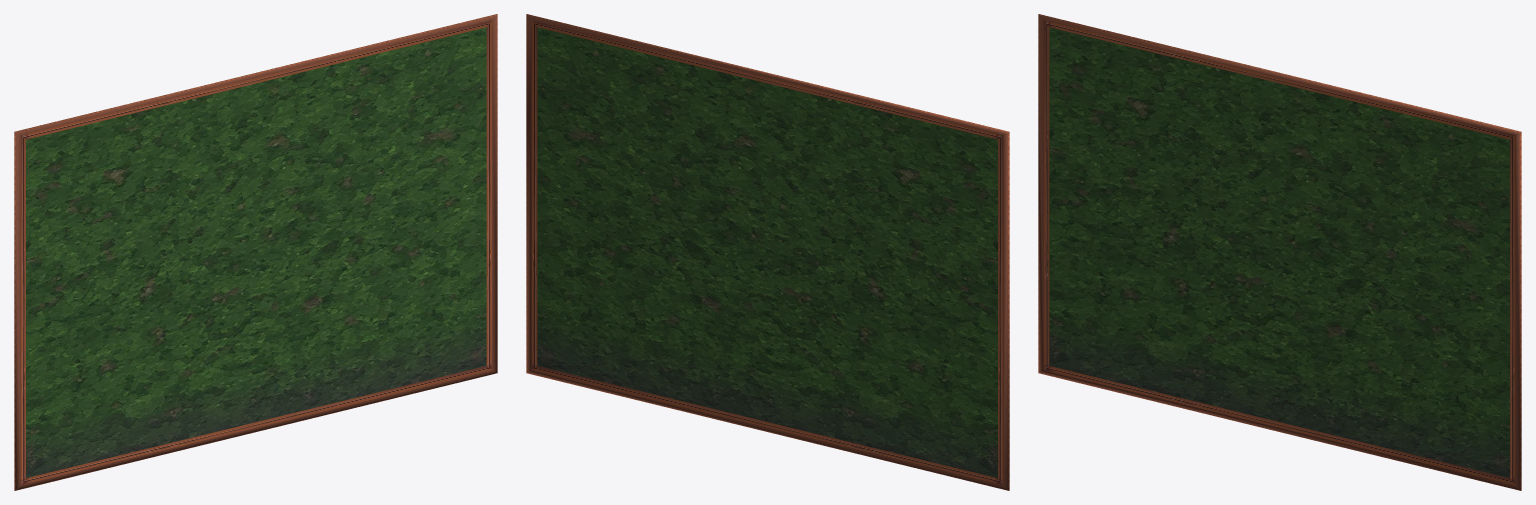
Rendered from panel.glb.
3 renders of one model, left to right at view 1: azimuth 30°, elevation 25°; view 2: azimuth 150°, elevation 25°; view 3: azimuth 330°, elevation 25°, orthographic.
Parts seen in each view (by area): view 1: Panel; view 2: Panel; view 3: Panel.
Part boxes in pixels (x1,y1,x2,y2): Panel: (14, 14, 497, 490); Panel: (526, 14, 1009, 490); Panel: (1038, 14, 1521, 490).
Size of the model in its own units: 8.26 by 5.86 by 0.0212.
Materials: 2 (2 with a texture image).
